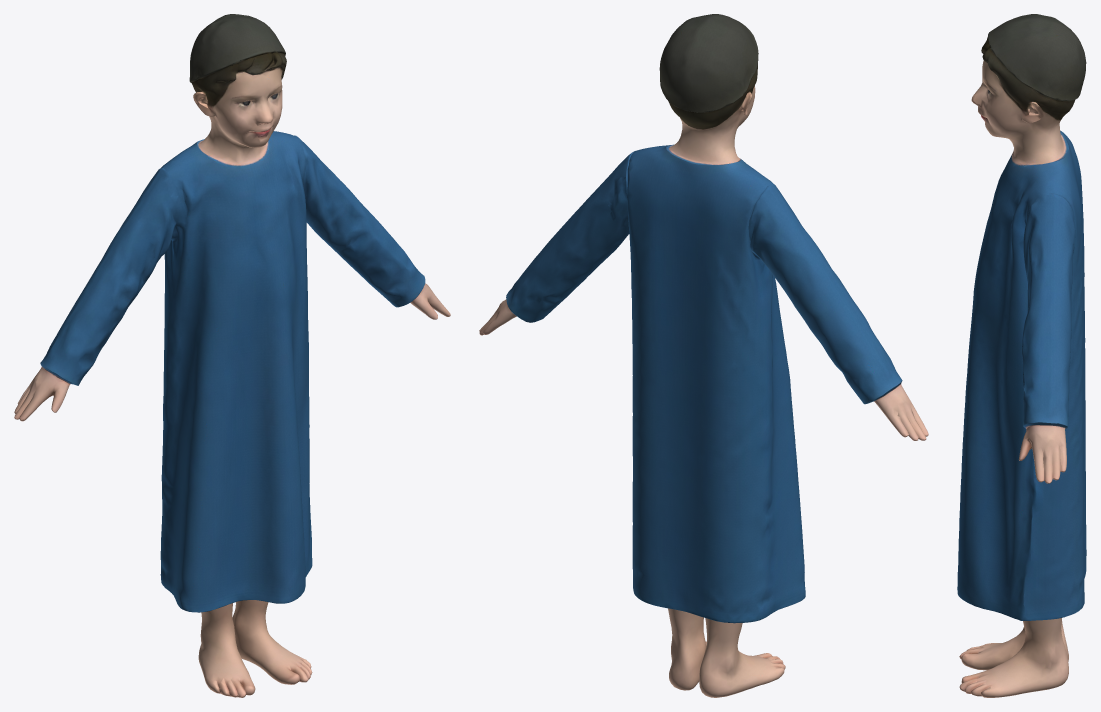
File: enfant_1.glb
The picture shows the model from 3 angles, left to right: view 1: azimuth 30°, elevation 25°; view 2: azimuth 150°, elevation 25°; view 3: azimuth 270°, elevation 25°; orthographic projection. The views are drawn at different scales.
Visible parts, largest first — view 1: Mesh; view 2: Mesh; view 3: Mesh.
Boxes of the visible parts, x1,y1,x2,y2 form: Mesh: (14, 14, 450, 697); Mesh: (479, 14, 928, 697); Mesh: (957, 14, 1086, 697).
Size of the model in its own units: 1.33 by 1.9 by 0.3366.
Materials: 1 (1 with a texture image).
